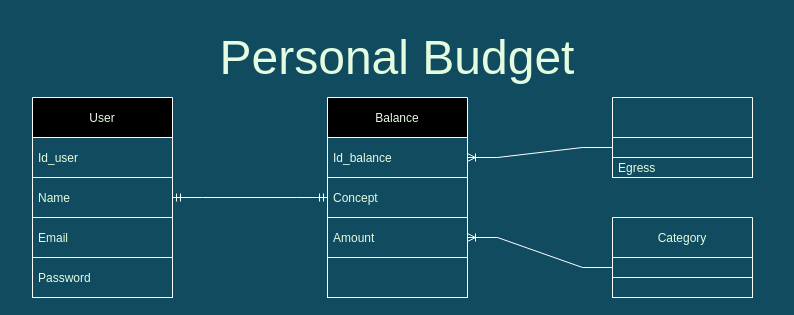
This 794x315 diagram has some shape labels left out. Here are the shapes that lost their labels. From the top down, the box of each, then its label:
(612, 96, 752, 178): Type
(612, 136, 752, 158): Entry
(326, 256, 468, 298): Date
(612, 256, 752, 278): Id_category
(612, 276, 752, 298): Category_Name
